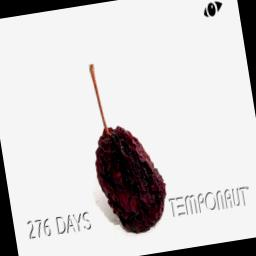Apple Rotten: (58, 10, 194, 243)
